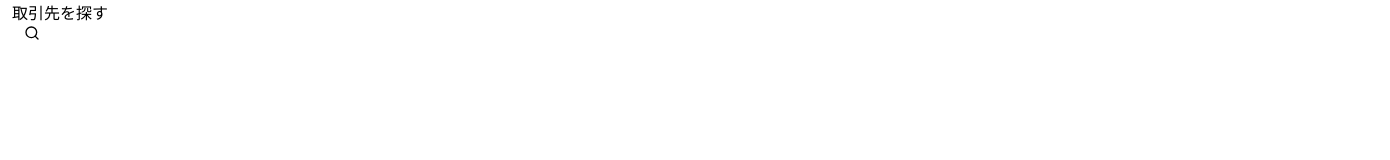
Test: SearchField › clears with the button and with Esc, keeping the focus
Type "abc" into the search field labelled "取引先を探す". click: {"x": 695, "y": 33}
box: [12,24,1378,42]
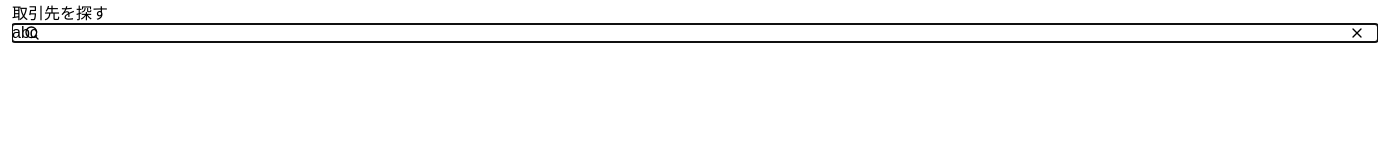
Click the button named "文字を消す". click: {"x": 1357, "y": 33}
box: [1345,21,1369,45]
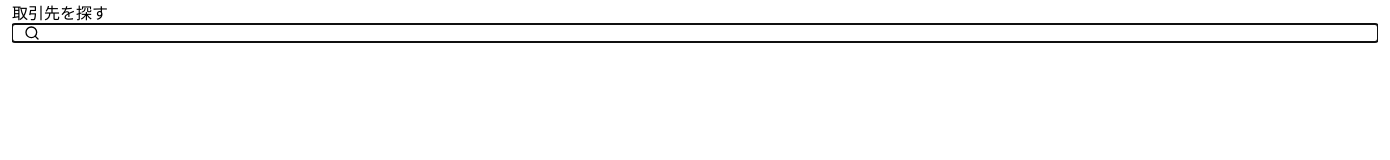
Expected: the search field labelled "取引先を探す" is empty
Type "xyz" into the search field labelled "取引先を探す". click: {"x": 695, "y": 33}
box: [12,24,1378,42]
Then press Escape
Expected: the search field labelled "取引先を探す" is empty, [12,24,1378,42]
